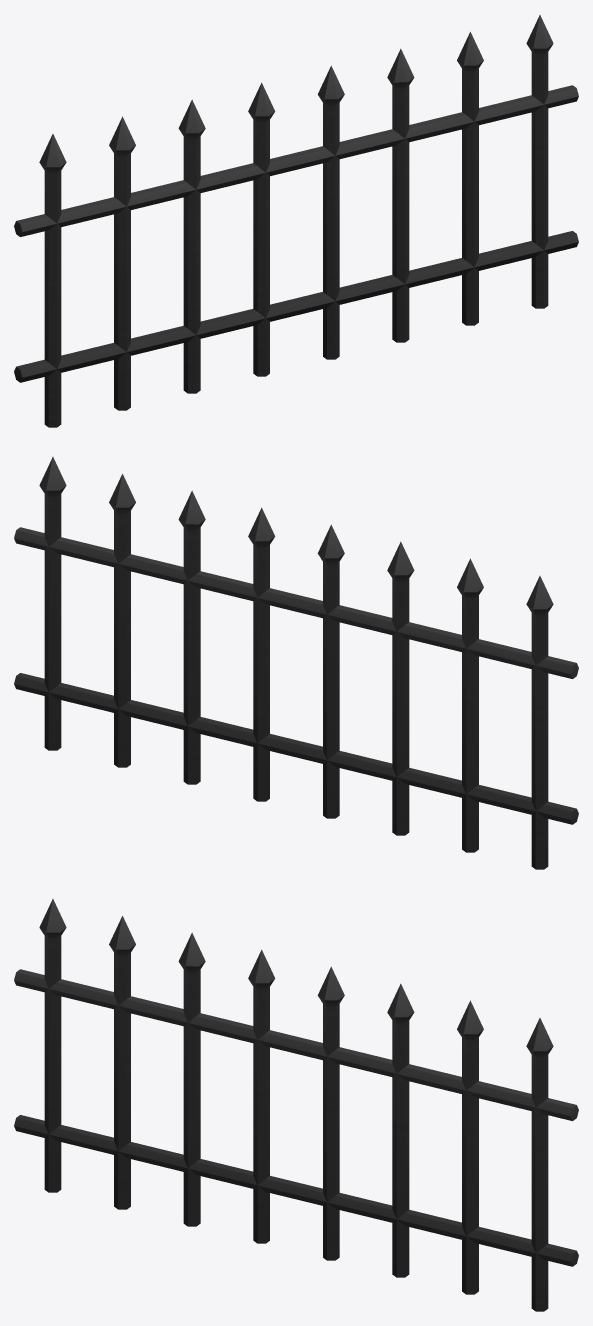
The model's file is fence-seperate.glb.
3 renders of one model, top to bottom at view 1: azimuth 30°, elevation 25°; view 2: azimuth 150°, elevation 25°; view 3: azimuth 330°, elevation 25°, orthographic.
Parts seen in each view (by area): view 1: fence_seperate; view 2: fence_seperate; view 3: fence_seperate.
Boxes of the visible parts, x1,y1,x2,y2 form: fence_seperate: (14,15,578,427); fence_seperate: (14,457,578,869); fence_seperate: (14,899,578,1311).
Bounding box in the file's own units: 4 × 2 × 0.1694.
Materials: 1 (1 with a texture image).
